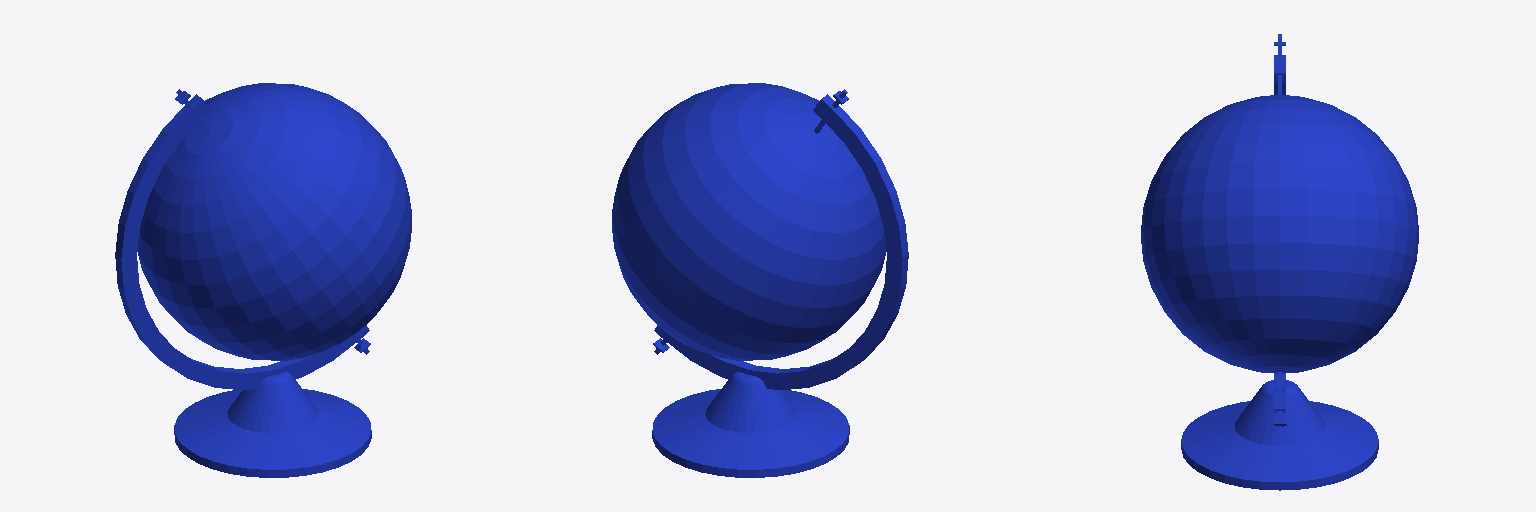
The model's file is earth.obj.
3 renders of one model, left to right at view 1: azimuth 30°, elevation 25°; view 2: azimuth 150°, elevation 25°; view 3: azimuth 270°, elevation 25°, orthographic.
Parts seen in each view (by area): view 1: Sphere, Cylinder, Circle; view 2: Sphere, Cylinder, Circle; view 3: Sphere, Cylinder, Circle.
Part boxes in pixels (bbox=[...]): Sphere: bbox=[138, 83, 411, 360]; Cylinder: bbox=[174, 372, 371, 477]; Circle: bbox=[115, 94, 369, 389]; Sphere: bbox=[612, 83, 885, 360]; Cylinder: bbox=[652, 372, 849, 477]; Circle: bbox=[654, 94, 908, 389]; Sphere: bbox=[1141, 95, 1418, 373]; Cylinder: bbox=[1181, 380, 1378, 490]; Circle: bbox=[1274, 55, 1285, 412].
Size of the model in its own units: 2.28 by 2.92 by 2.